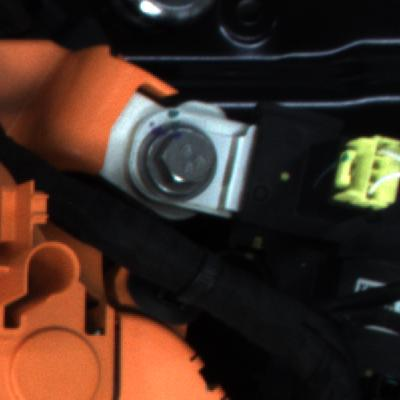nut_b: (135, 115, 230, 205)
